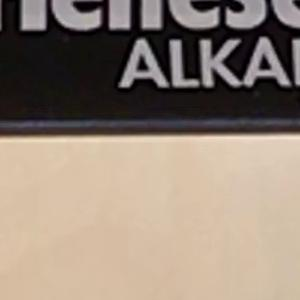keyword: (110, 30, 209, 97)
